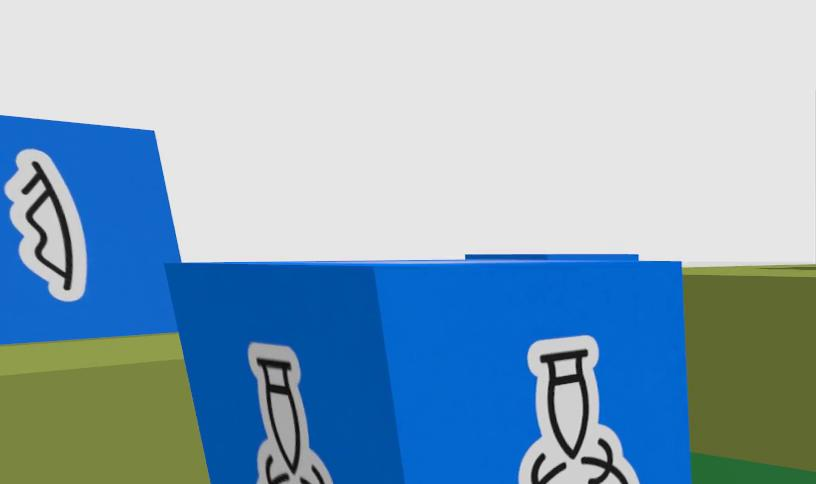KFS_REAL: (168, 260, 690, 484), (0, 116, 180, 345), (515, 337, 638, 484), (3, 148, 87, 302), (248, 343, 335, 484)
